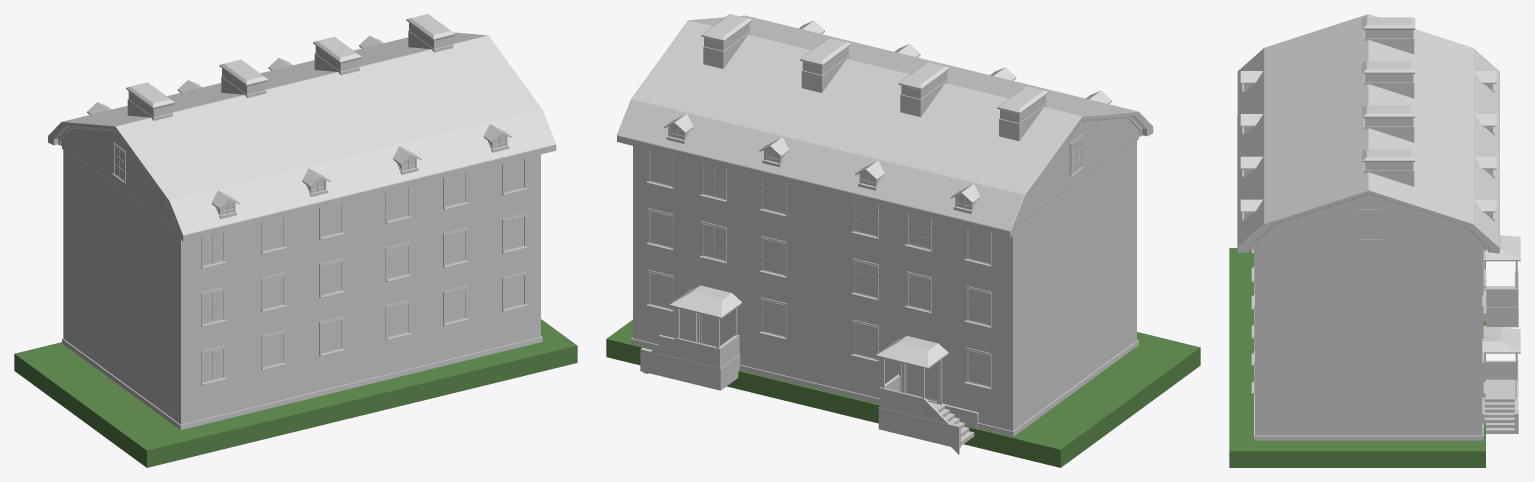
The picture shows the model from 3 angles, left to right: view 1: azimuth 30°, elevation 25°; view 2: azimuth 150°, elevation 25°; view 3: azimuth 270°, elevation 25°; orthographic projection. The views are drawn at different scales.
Visible parts, largest first — view 1: Cube.079; view 2: Cube.079; view 3: Cube.079.
Boxes of the visible parts, x1=… form: Cube.079: x1=14, y1=14, x2=577, y2=467; Cube.079: x1=606, y1=14, x2=1200, y2=467; Cube.079: x1=1229, y1=14, x2=1520, y2=467.
Size of the model in its own units: 2435 by 1587 by 1473.
